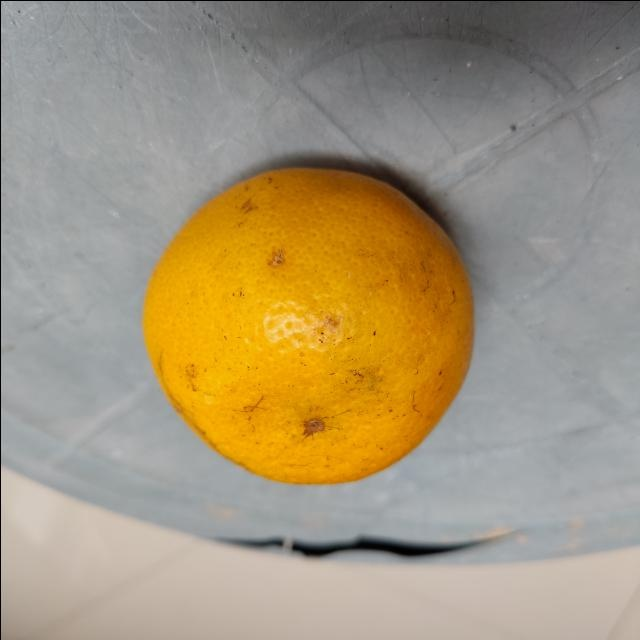agrume: (138, 163, 479, 489)
